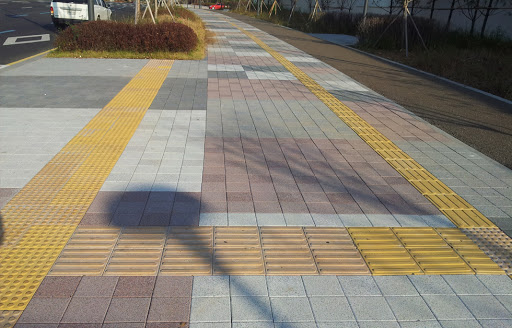dot: (1, 277, 38, 310), (13, 246, 50, 275), (23, 220, 64, 246), (474, 228, 512, 250), (42, 206, 81, 224), (3, 204, 39, 222), (1, 221, 25, 247), (17, 189, 53, 206), (65, 173, 101, 190), (59, 190, 92, 207), (33, 174, 65, 189), (75, 162, 111, 175), (49, 159, 76, 174)
line: (361, 246, 423, 275), (312, 247, 370, 276), (411, 245, 469, 274), (258, 224, 313, 254), (263, 246, 318, 276), (399, 227, 454, 255), (305, 227, 359, 255), (106, 249, 160, 277), (213, 225, 263, 255), (211, 248, 266, 275), (160, 249, 213, 275), (351, 225, 402, 252), (59, 248, 108, 275), (167, 226, 215, 253), (119, 225, 165, 251), (76, 225, 115, 252), (447, 208, 487, 228), (412, 177, 449, 196), (429, 190, 464, 210), (402, 168, 436, 181), (388, 159, 421, 169)
